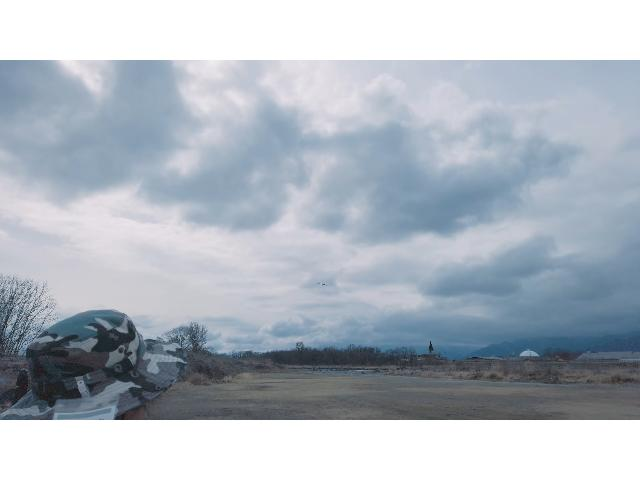Anti-Drone: (314, 278, 332, 290)
